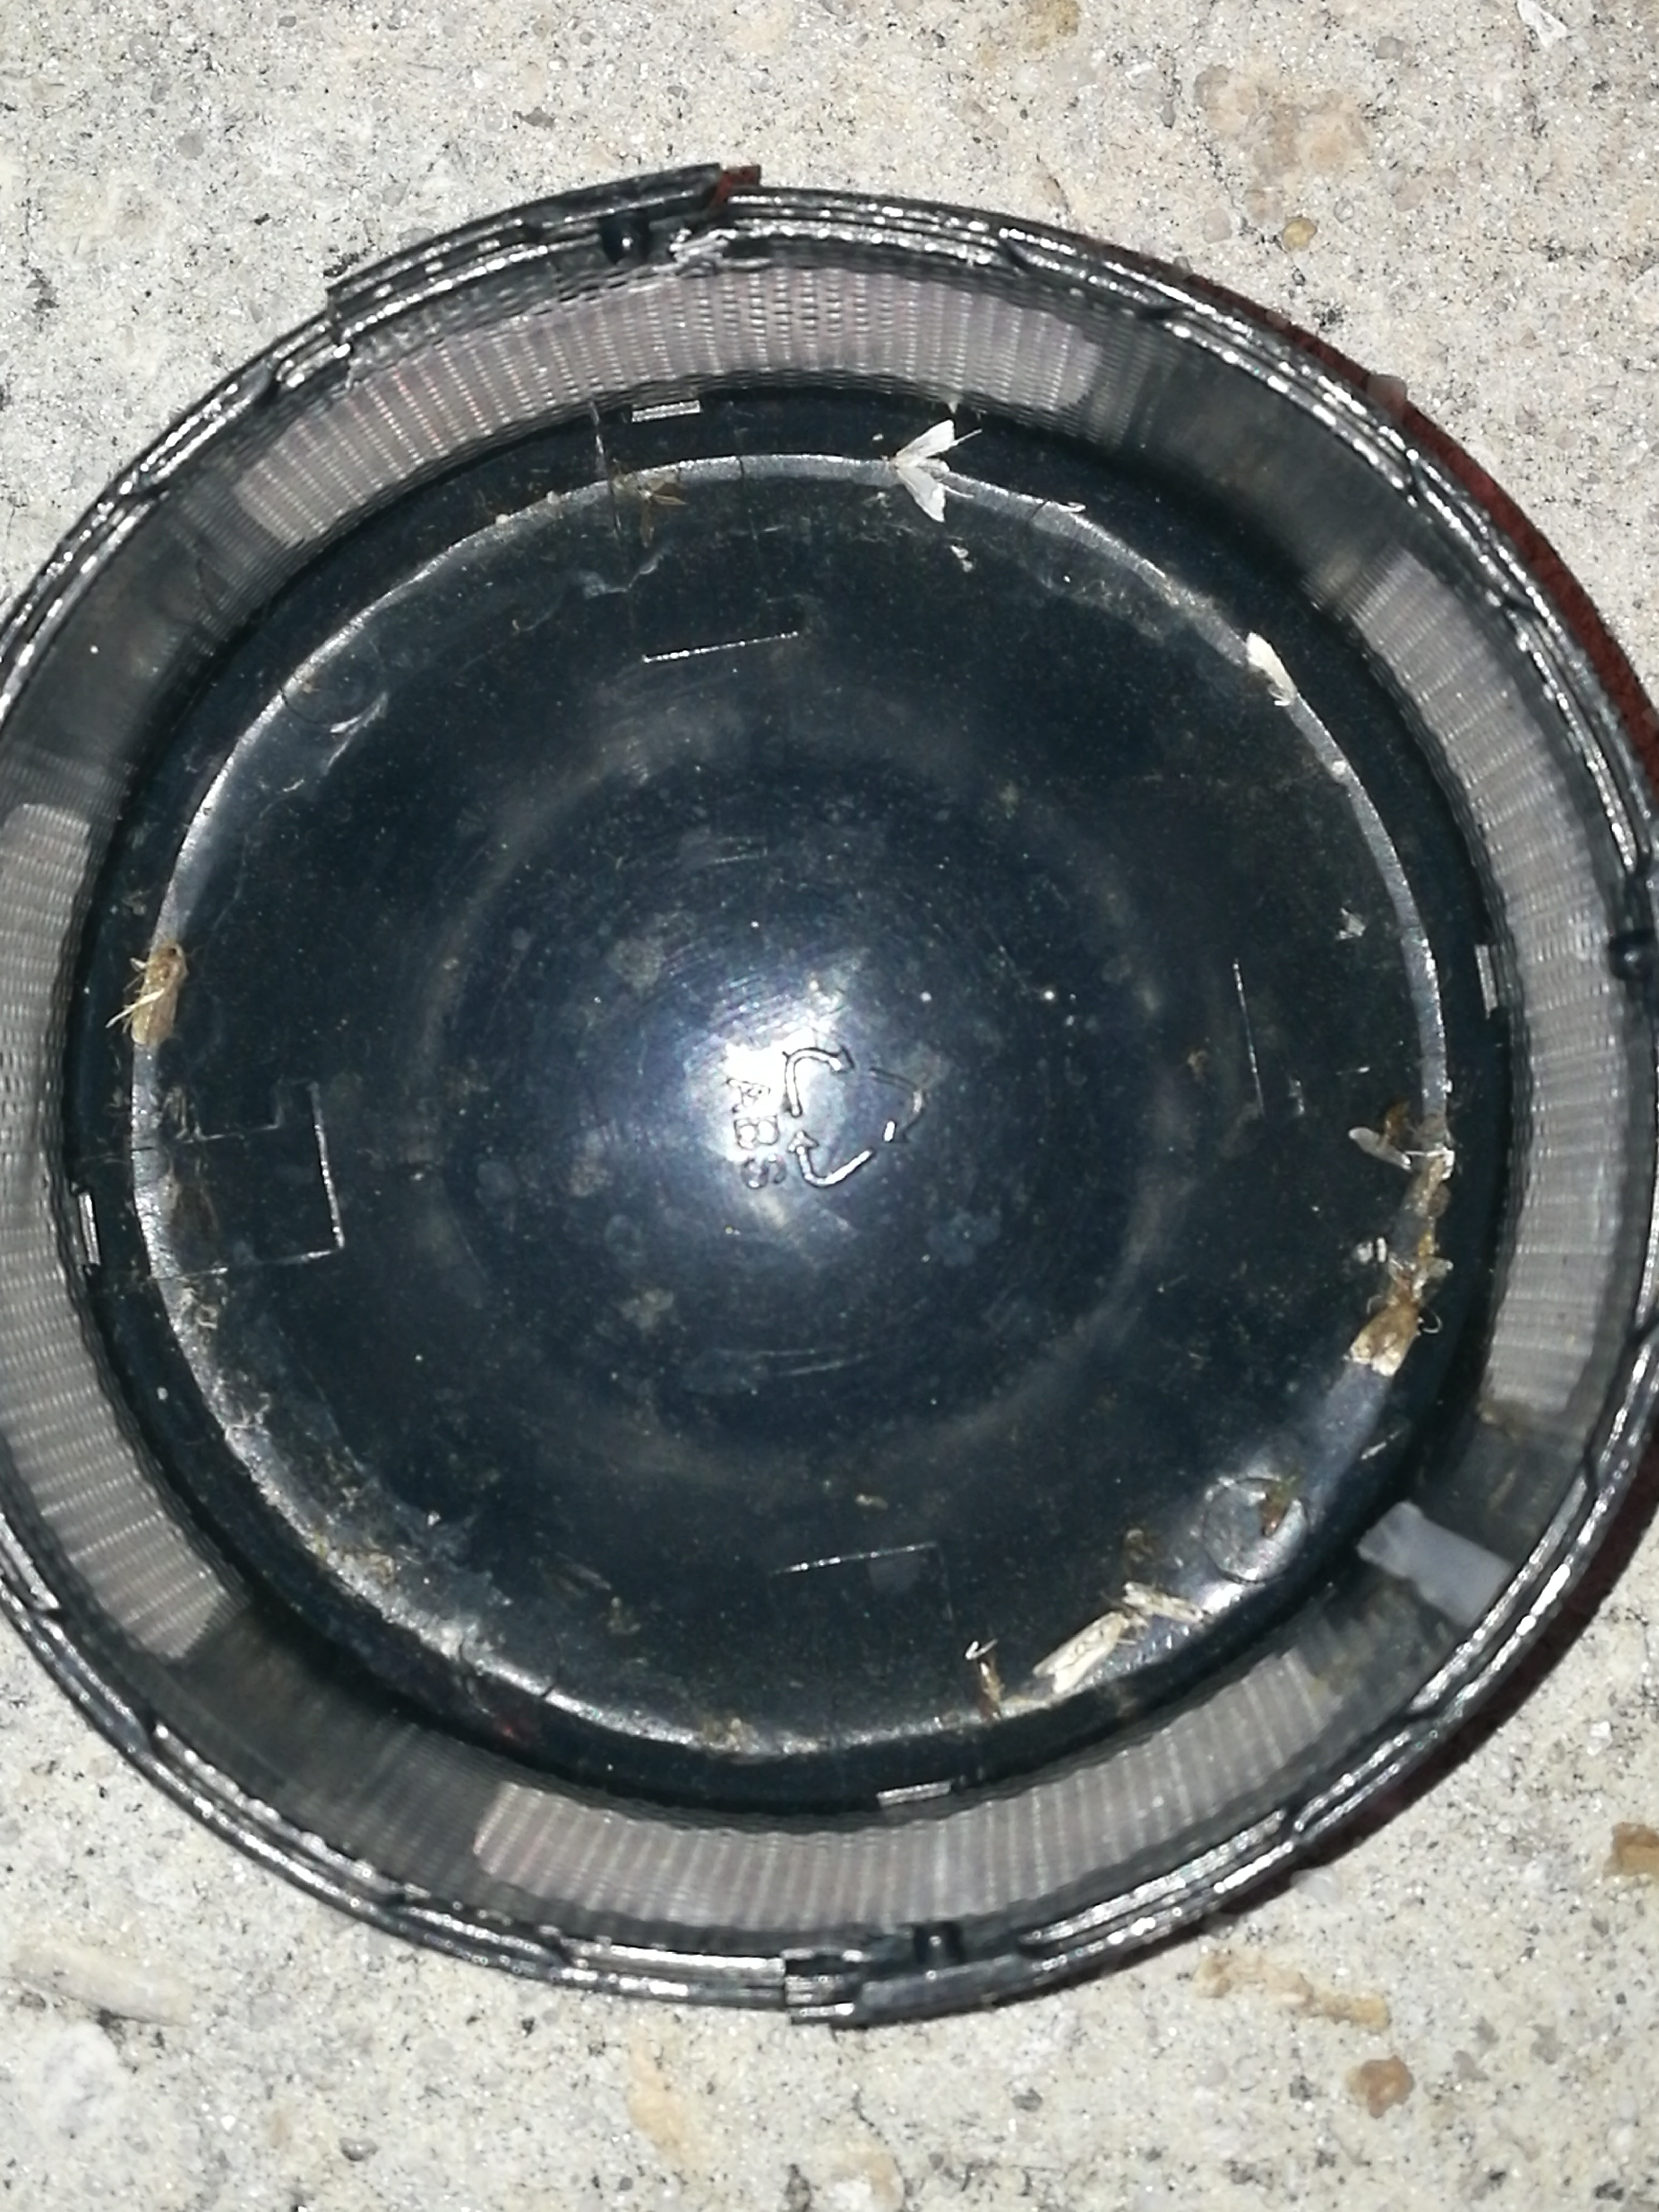mosquito: (1035, 1611, 1126, 1689), (1246, 632, 1297, 707), (1124, 1580, 1204, 1622)
moth: (896, 421, 955, 521), (131, 937, 183, 1043), (1354, 1301, 1415, 1374)
